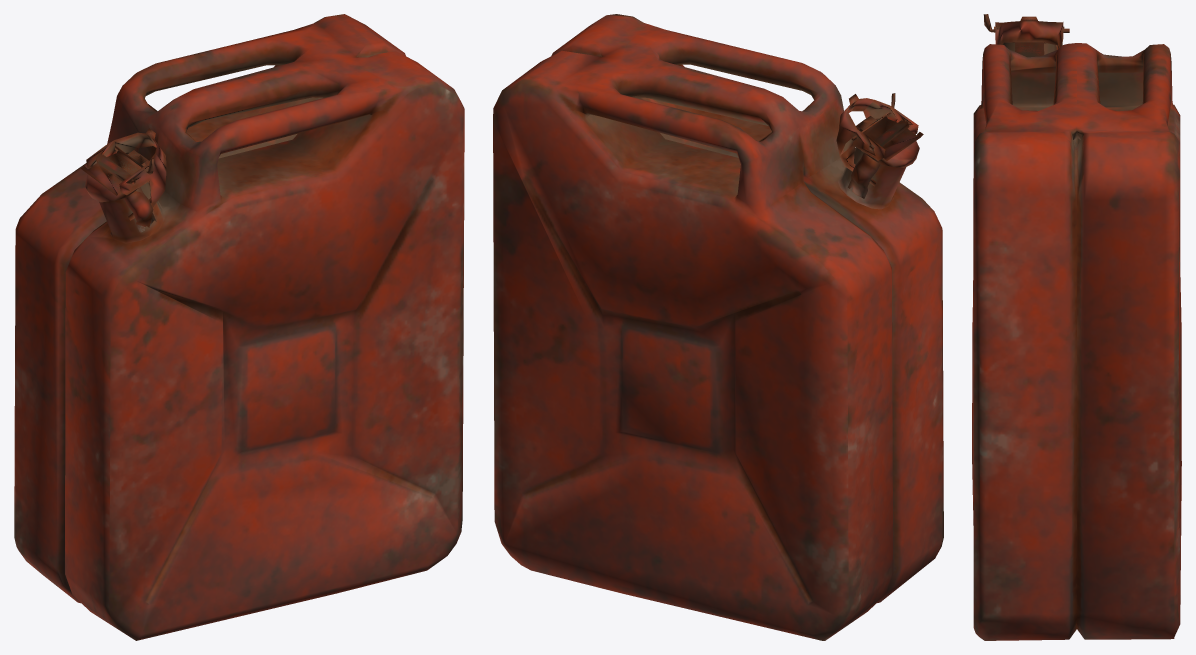
File: metal_jerrycan.glb
3 renders of one model, left to right at view 1: azimuth 30°, elevation 25°; view 2: azimuth 150°, elevation 25°; view 3: azimuth 270°, elevation 25°, orthographic. The views are drawn at different scales.
Parts seen in each view (by area): view 1: metal_jerrycan; view 2: metal_jerrycan; view 3: metal_jerrycan.
Boxes of the visible parts, left/top/right/bottom form: metal_jerrycan: left=14, top=14, right=464, bottom=640; metal_jerrycan: left=493, top=14, right=943, bottom=640; metal_jerrycan: left=972, top=14, right=1181, bottom=640.
Size of the model in its own units: 0.3493 by 0.4548 by 0.1717.
1 material, 1 textured.
